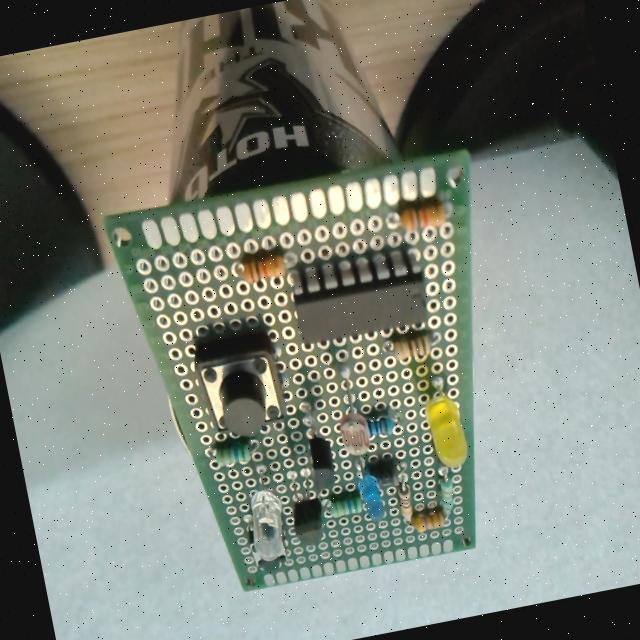IC: (290, 249, 434, 349)
cds: (328, 368, 373, 458)
diode: (375, 466, 409, 488)
led: (239, 460, 293, 565), (418, 372, 471, 470), (352, 452, 387, 524)
resistor: (400, 200, 448, 236), (242, 253, 286, 286), (392, 333, 434, 366), (392, 468, 416, 521), (214, 438, 252, 468), (328, 492, 364, 520), (364, 411, 399, 439), (411, 508, 446, 534), (436, 474, 458, 512)
switch: (192, 334, 290, 442)
transistor: (282, 459, 330, 547), (298, 397, 339, 491)
